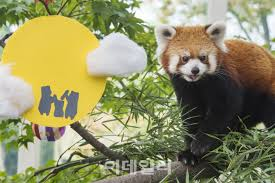redPanda: (150, 19, 274, 153)
